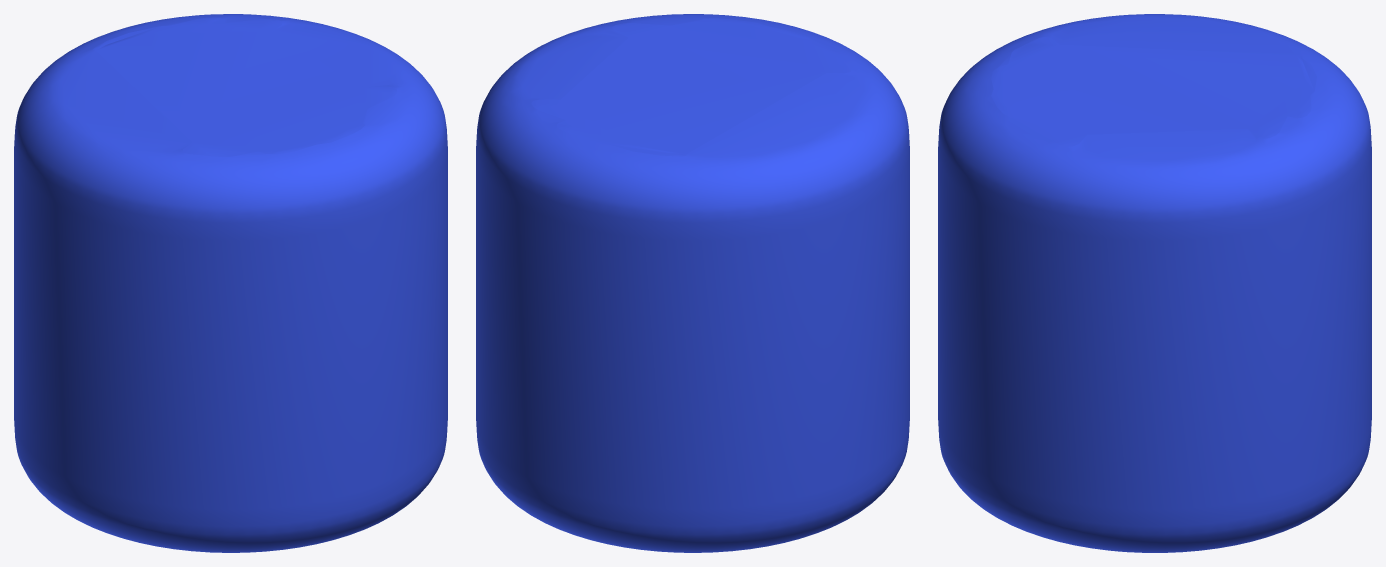
File: bodypart_blue.obj
3 renders of one model, left to right at view 1: azimuth 30°, elevation 25°; view 2: azimuth 150°, elevation 25°; view 3: azimuth 270°, elevation 25°, orthographic.
Parts seen in each view (by area): view 1: Cube_Cube_Material_Cube_Cube_Material_Material.001; view 2: Cube_Cube_Material_Cube_Cube_Material_Material.001; view 3: Cube_Cube_Material_Cube_Cube_Material_Material.001.
Part boxes in pixels (box(x1,y1,x2,y2)): Cube_Cube_Material_Cube_Cube_Material_Material.001: box(14, 14, 447, 552); Cube_Cube_Material_Cube_Cube_Material_Material.001: box(476, 14, 909, 552); Cube_Cube_Material_Cube_Cube_Material_Material.001: box(938, 14, 1371, 552).
Bounding box in the file's own units: 1.98 × 1.98 × 1.98.
